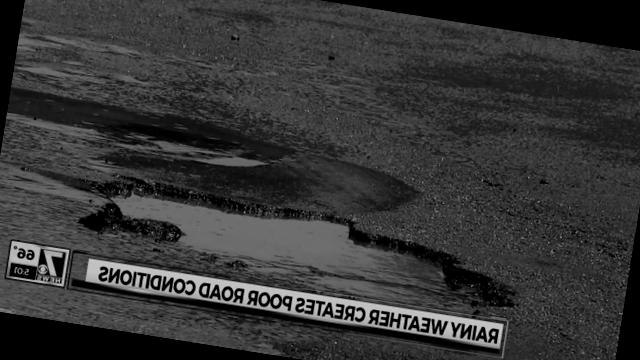Pothole: (40, 155, 534, 360), (4, 38, 290, 174)
